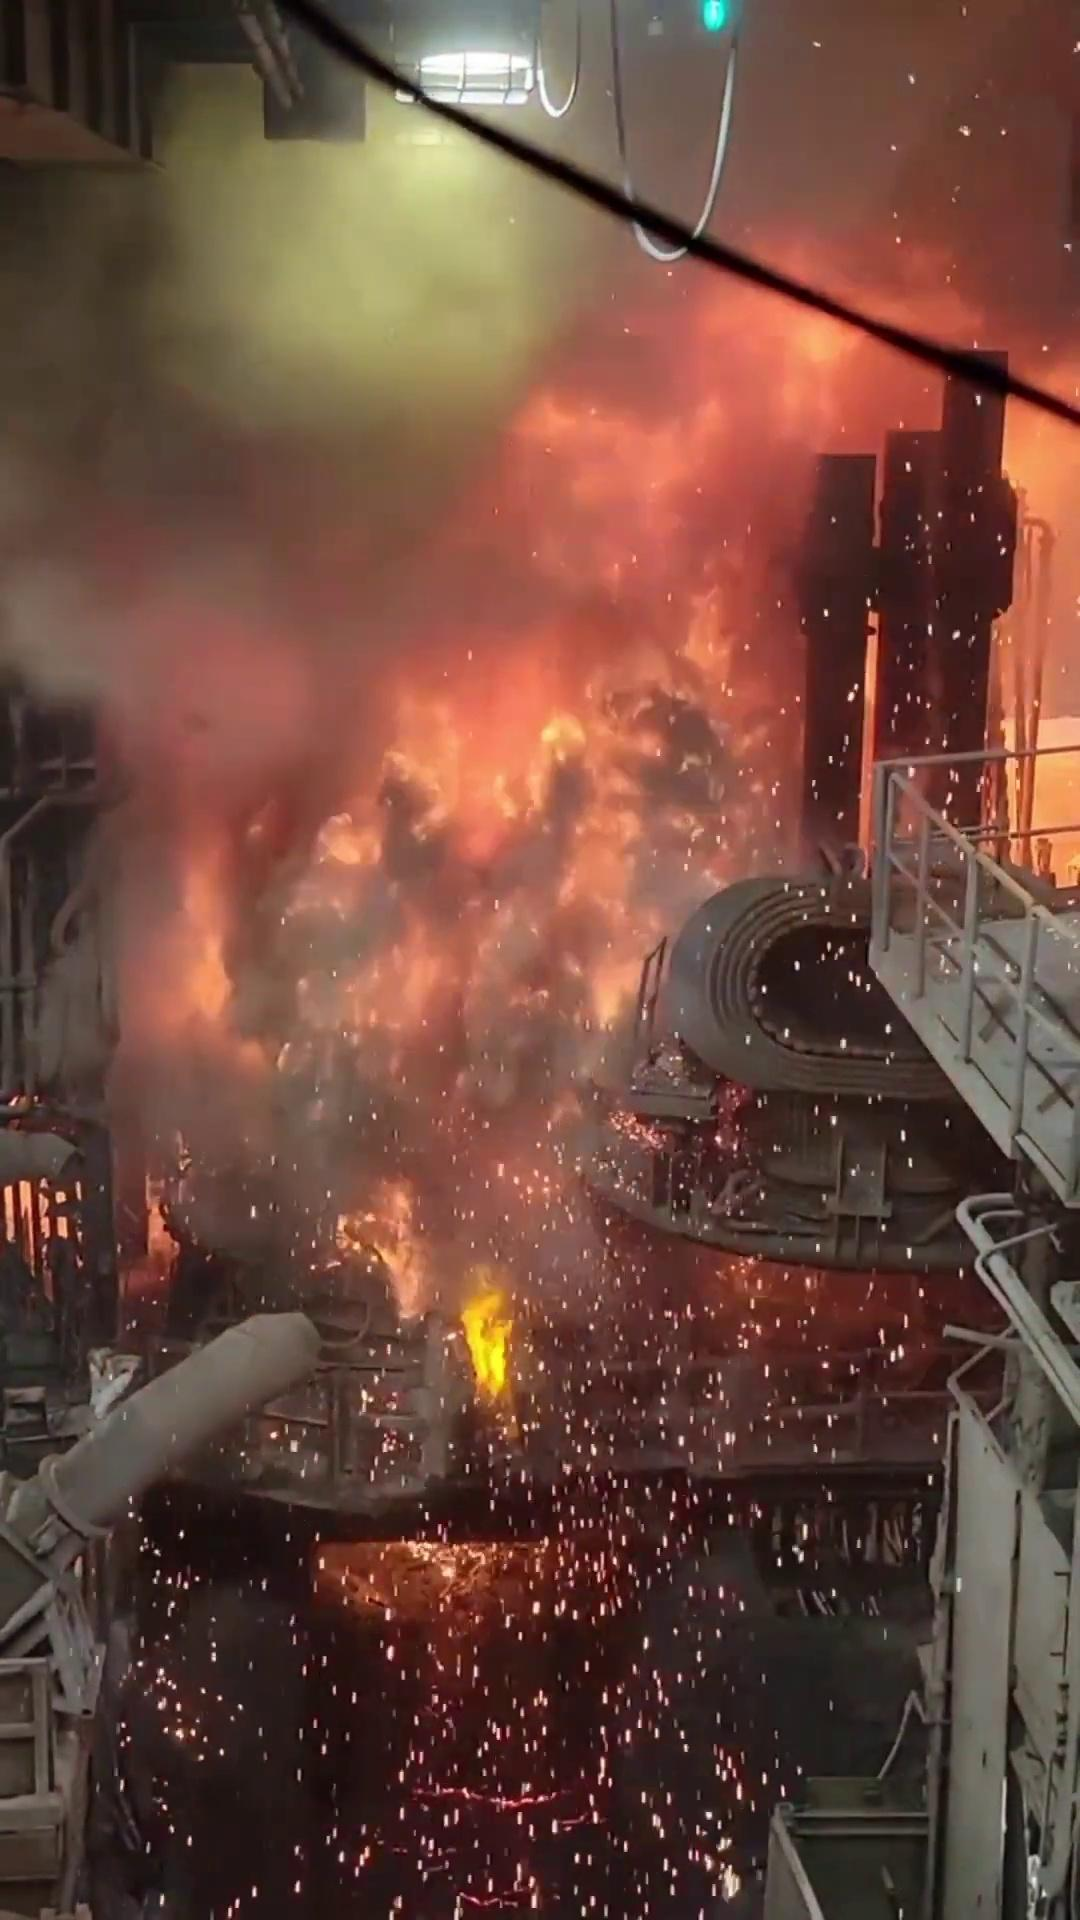fire: (182, 149, 1046, 1685)
